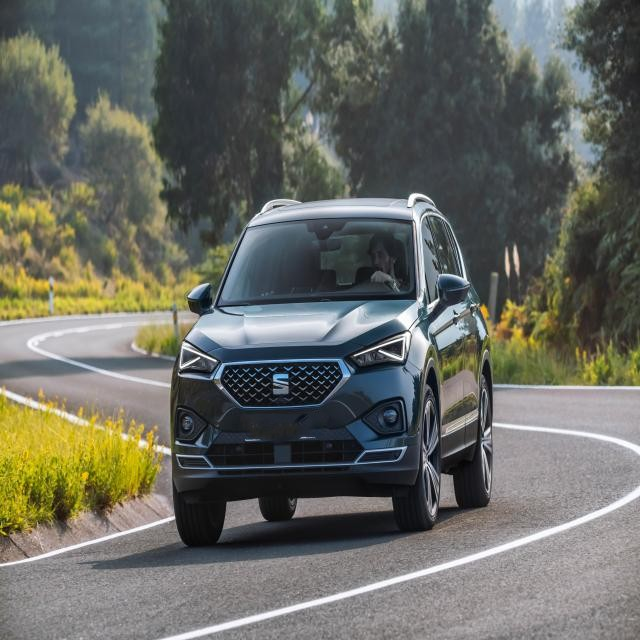car: (172, 192, 496, 550)
